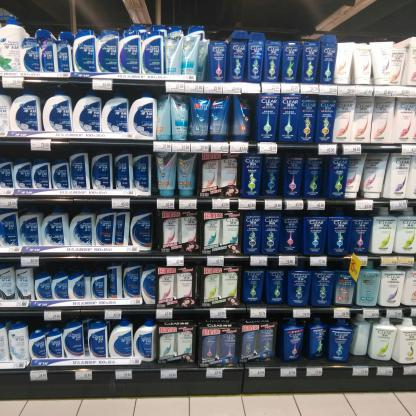Void: (5, 145, 63, 159), (45, 262, 105, 274)
